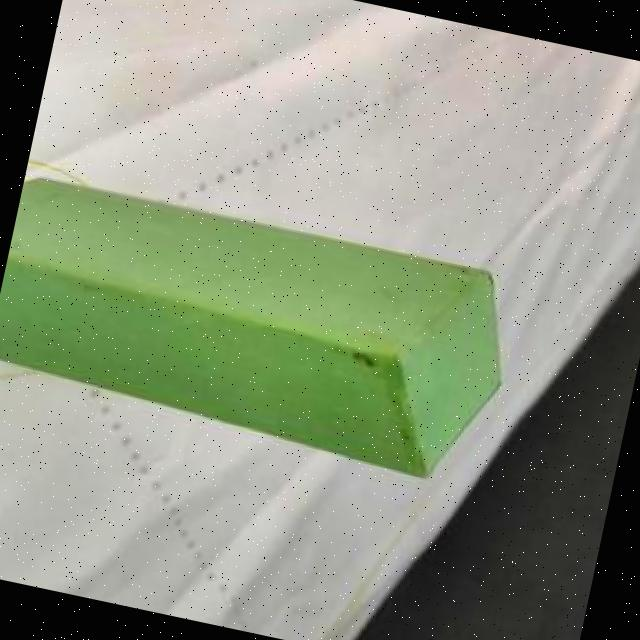greenbox: (0, 170, 526, 492)
